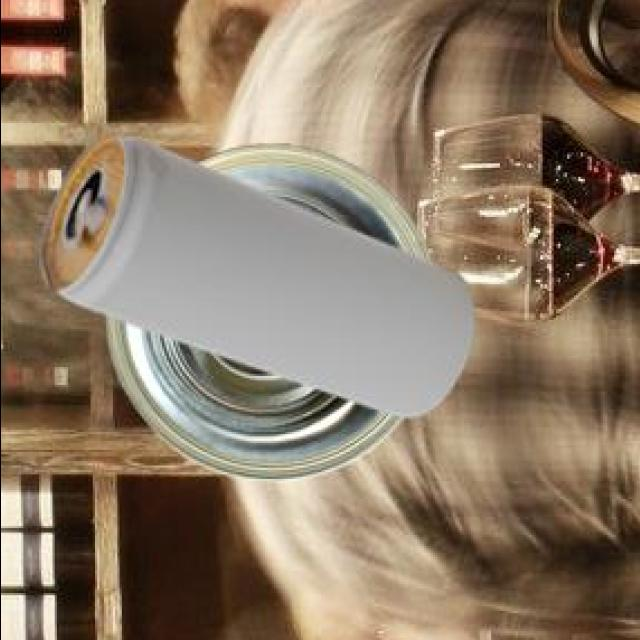logam: (35, 140, 471, 420), (102, 149, 426, 484)
